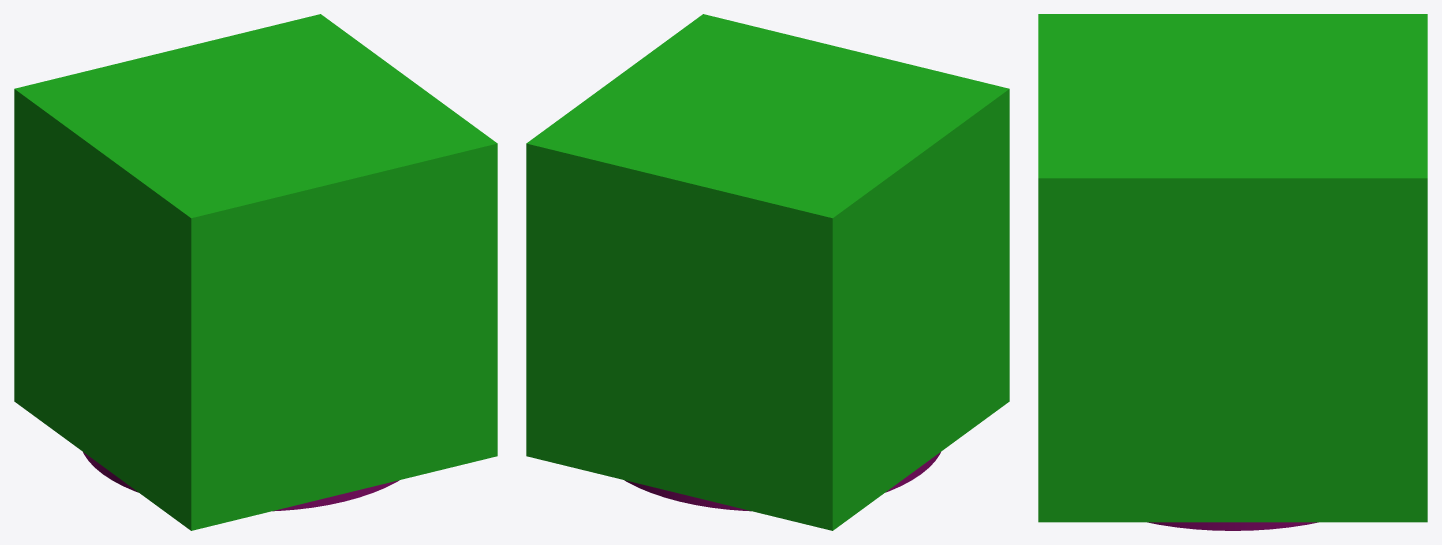
Rendered from PodiumTemplate.obj.
3 views of the same model, side by side, from view 1: azimuth 30°, elevation 25°; view 2: azimuth 150°, elevation 25°; view 3: azimuth 270°, elevation 25° (orthographic). The views are drawn at different scales.
Visible parts, largest first — view 1: Box001, Cylinder001; view 2: Box001, Cylinder001; view 3: Box001, Cylinder001.
Part boxes in pixels (<box>): Box001: <box>14,14,497,530</box>; Cylinder001: <box>83,452,399,511</box>; Box001: <box>526,14,1009,530</box>; Cylinder001: <box>624,452,940,511</box>; Box001: <box>1038,14,1427,522</box>; Cylinder001: <box>1147,522,1318,530</box>.
Size of the model in its own units: 394 by 394 by 394.
